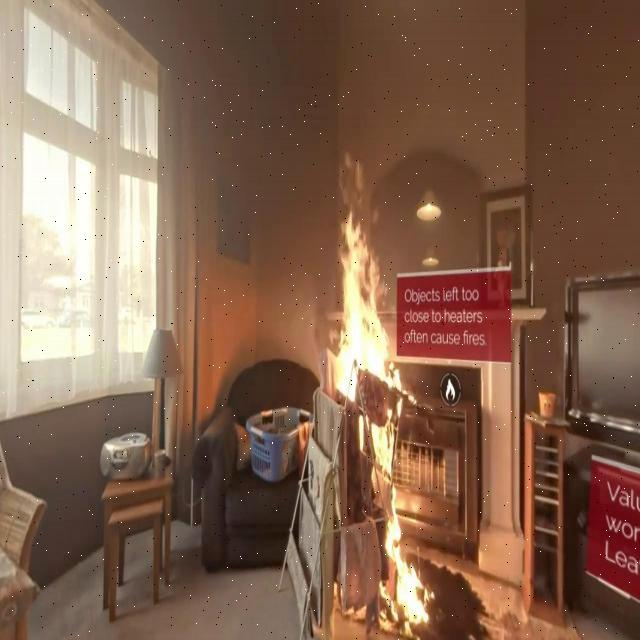fire: (322, 159, 452, 640)
